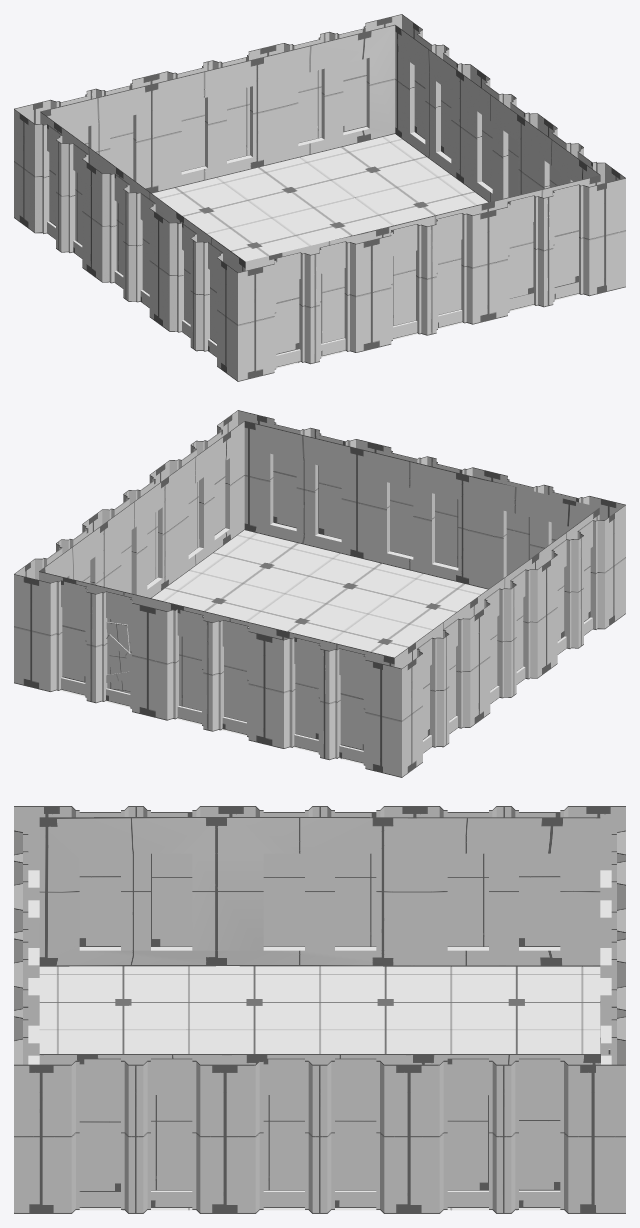
Rendered from Floor_.fbx.
The picture shows the model from 3 angles, top to bottom: view 1: azimuth 30°, elevation 25°; view 2: azimuth 150°, elevation 25°; view 3: azimuth 270°, elevation 25°; orthographic projection. The views are drawn at different scales.
Parts seen in each view (by area): view 1: _floor2:_floor2_0, _floor2:_floor2_1, _floor2:_floor2_4; view 2: _floor2:_floor2_0, _floor2:_floor2_1, _floor2:_floor2_4, _floor2:_floor2_2; view 3: _floor2:_floor2_0, _floor2:_floor2_4, _floor2:_floor2_1.
Boxes of the visible parts, bbox=[...] form: _floor2:_floor2_0: bbox=[14, 14, 625, 381]; _floor2:_floor2_1: bbox=[49, 58, 578, 354]; _floor2:_floor2_4: bbox=[152, 134, 579, 368]; _floor2:_floor2_0: bbox=[14, 410, 625, 777]; _floor2:_floor2_1: bbox=[62, 454, 590, 750]; _floor2:_floor2_4: bbox=[60, 530, 487, 764]; _floor2:_floor2_2: bbox=[106, 622, 130, 691]; _floor2:_floor2_0: bbox=[14, 806, 625, 1213]; _floor2:_floor2_4: bbox=[39, 966, 600, 1210]; _floor2:_floor2_1: bbox=[79, 853, 560, 1191].
Size of the model in its own units: 142 by 39.56 by 142.
1 material, 1 textured.
